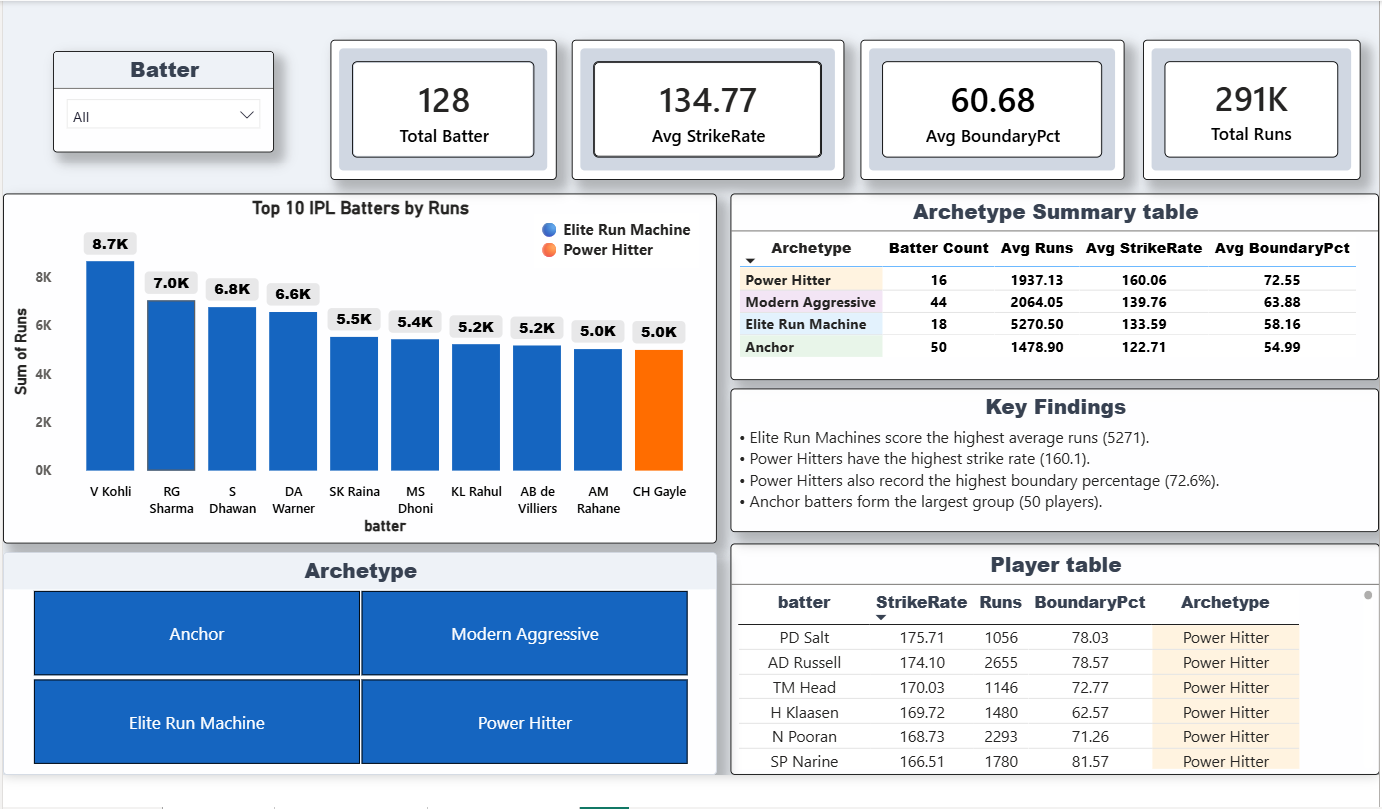

Layout of this report page (visuals, bound fields, positions):
{"tool":"powerbi","page":{"name":"Player Explorer","canvas":[1280,720],"ordinal":1},"visuals":[{"type":"clusteredColumnChart","title":"Top 10 IPL Batters by Runs","fields":{"Category":["ipl_batter_clusters.batter"],"Y":["Sum(ipl_batter_clusters.Runs)"]},"box":[0,179.1,664,325.6],"z":0},{"type":"tableEx","title":"Archetype Summary table","fields":{"Values":["ipl_batter_clusters.Archetype","ipl_batter_clusters.batter","Avg(ipl_batter_clusters.Runs)","Avg(ipl_batter_clusters.StrikeRate)","Avg(ipl_batter_clusters.BoundaryPct)"]},"box":[676.7,179.1,603.5,173.3],"z":1000},{"type":"tableEx","title":"Player table","fields":{"Values":["ipl_batter_clusters.batter","ipl_batter_clusters.StrikeRate","ipl_batter_clusters.Runs","ipl_batter_clusters.BoundaryPct","ipl_batter_clusters.Archetype"]},"box":[676.7,504.7,604,215.1],"z":2000},{"type":"slicer","title":"Batter","fields":{"Values":["ipl_batter_clusters.batter"]},"box":[46.5,46.5,205.8,94.2],"z":3000},{"type":"cardVisual","fields":{"Data":["CountNonNull(ipl_batter_clusters.batter)"]},"box":[304.7,36,210.5,130.2],"z":4000},{"type":"cardVisual","fields":{"Data":["Avg(ipl_batter_clusters.StrikeRate)"]},"box":[529.1,36,253.5,130.2],"z":5000},{"type":"cardVisual","fields":{"Data":["Avg(ipl_batter_clusters.BoundaryPct)"]},"box":[797.7,36,245.3,130.2],"z":6000},{"type":"cardVisual","fields":{"Data":["Sum(ipl_batter_clusters.Runs)"]},"box":[1060.5,36,202.3,130.2],"z":7000},{"type":"textbox","title":"Key Findings","box":[676.7,360.5,603.5,133.7],"z":8000},{"type":"textbox","box":[494.2,197.7,153.5,50],"z":9000},{"type":"slicer","title":"Archetype","fields":{"Values":["ipl_batter_clusters.Archetype"]},"box":[0,512.8,664,207],"z":10000}]}

Visuals, with their boxes on the page's 1280x720 design canvas (x1, y1, x2, y2). These are canvas units, not pixel positions in the 1382x809 screenshot, which may show the page scaled, cropped or inside an application window:
"Top 10 IPL Batters by Runs" clusteredColumnChart: left=0, top=179, right=664, bottom=505
"Archetype Summary table" tableEx: left=677, top=179, right=1280, bottom=352
"Player table" tableEx: left=677, top=505, right=1281, bottom=720
"Batter" slicer: left=46, top=46, right=252, bottom=141
cardVisual - CountNonNull(ipl_batter_clusters.batter): left=305, top=36, right=515, bottom=166
cardVisual - Avg(ipl_batter_clusters.StrikeRate): left=529, top=36, right=783, bottom=166
cardVisual - Avg(ipl_batter_clusters.BoundaryPct): left=798, top=36, right=1043, bottom=166
cardVisual - Sum(ipl_batter_clusters.Runs): left=1060, top=36, right=1263, bottom=166
"Key Findings" textbox: left=677, top=360, right=1280, bottom=494
textbox: left=494, top=198, right=648, bottom=248
"Archetype" slicer: left=0, top=513, right=664, bottom=720
